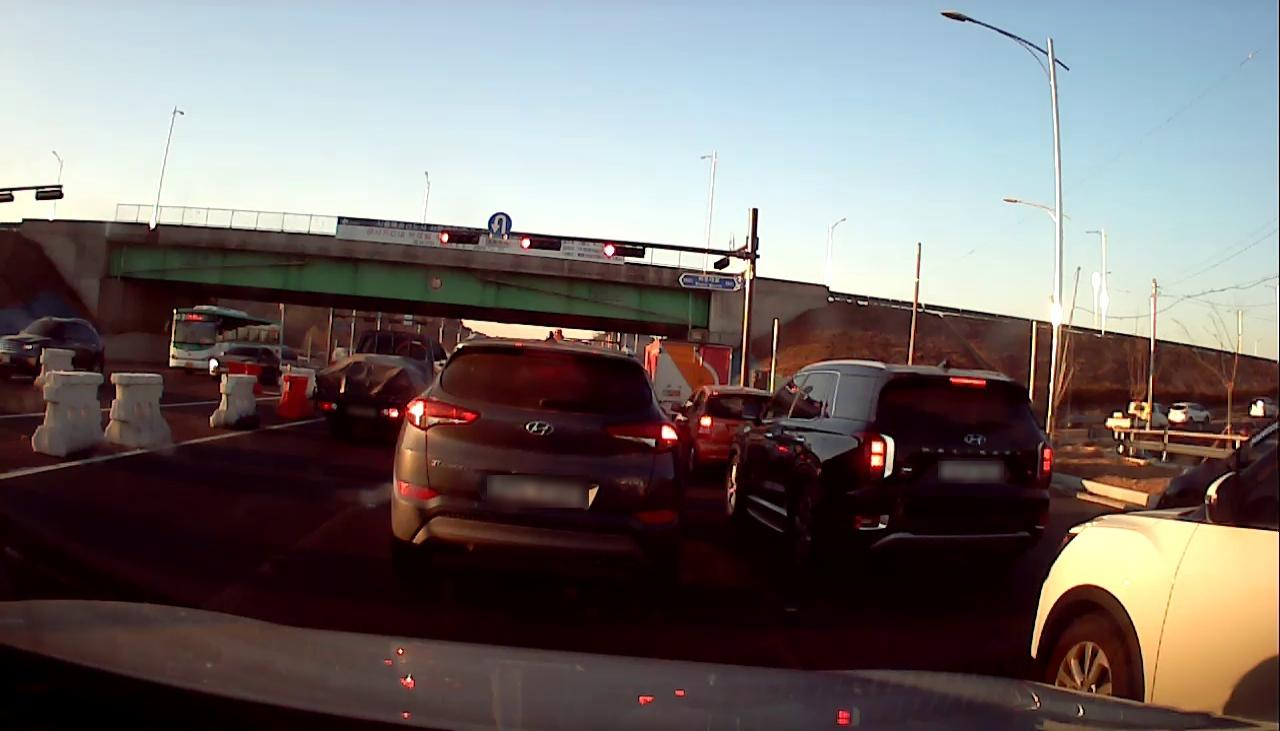Red Light: (603, 243, 616, 257), (439, 231, 450, 244), (520, 236, 531, 249)
